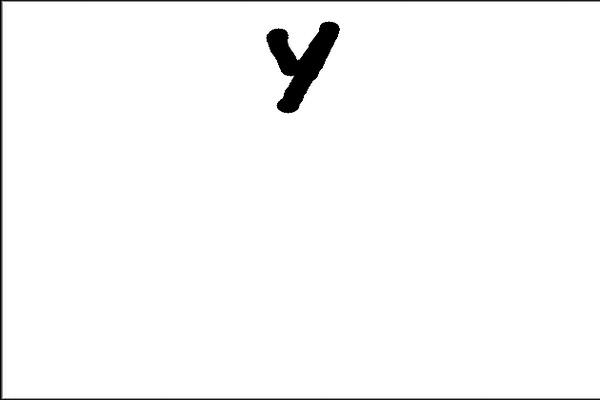Y: (252, 16, 344, 124)
